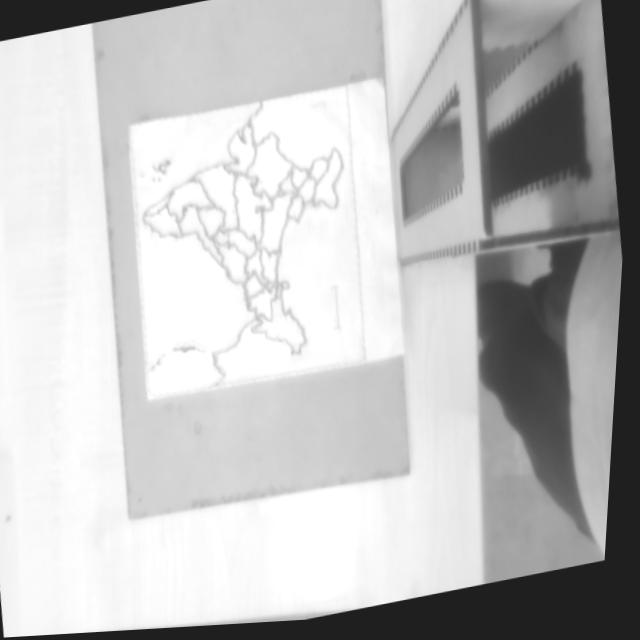map: (127, 85, 368, 399)
